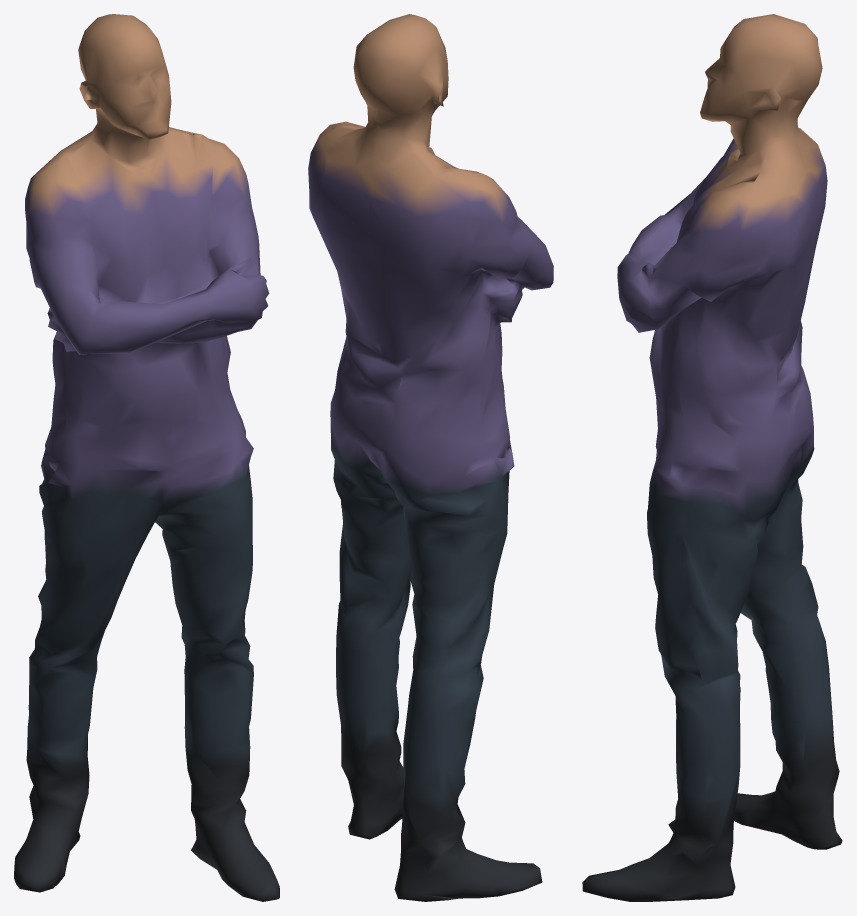
Rendered from people_typ7_stand.glb.
The picture shows the model from 3 angles, left to right: view 1: azimuth 30°, elevation 25°; view 2: azimuth 150°, elevation 25°; view 3: azimuth 270°, elevation 25°; orthographic projection.
Visible parts, largest first — view 1: people_typ7_stand-mesh; view 2: people_typ7_stand-mesh; view 3: people_typ7_stand-mesh.
Part boxes in pixels (left/top/right/bottom): people_typ7_stand-mesh: left=14, top=14, right=279, bottom=901; people_typ7_stand-mesh: left=308, top=14, right=553, bottom=901; people_typ7_stand-mesh: left=582, top=14, right=842, bottom=901.
Size of the model in its own units: 0.5003 by 1.8 by 0.5039.
